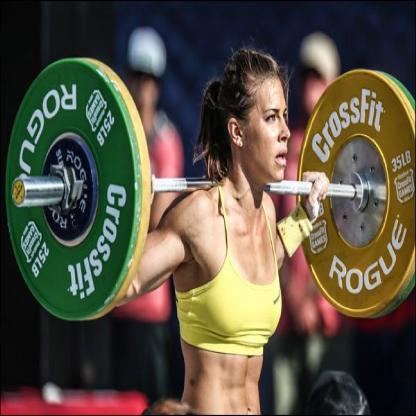barbell: (6, 58, 138, 323), (297, 71, 416, 320)
